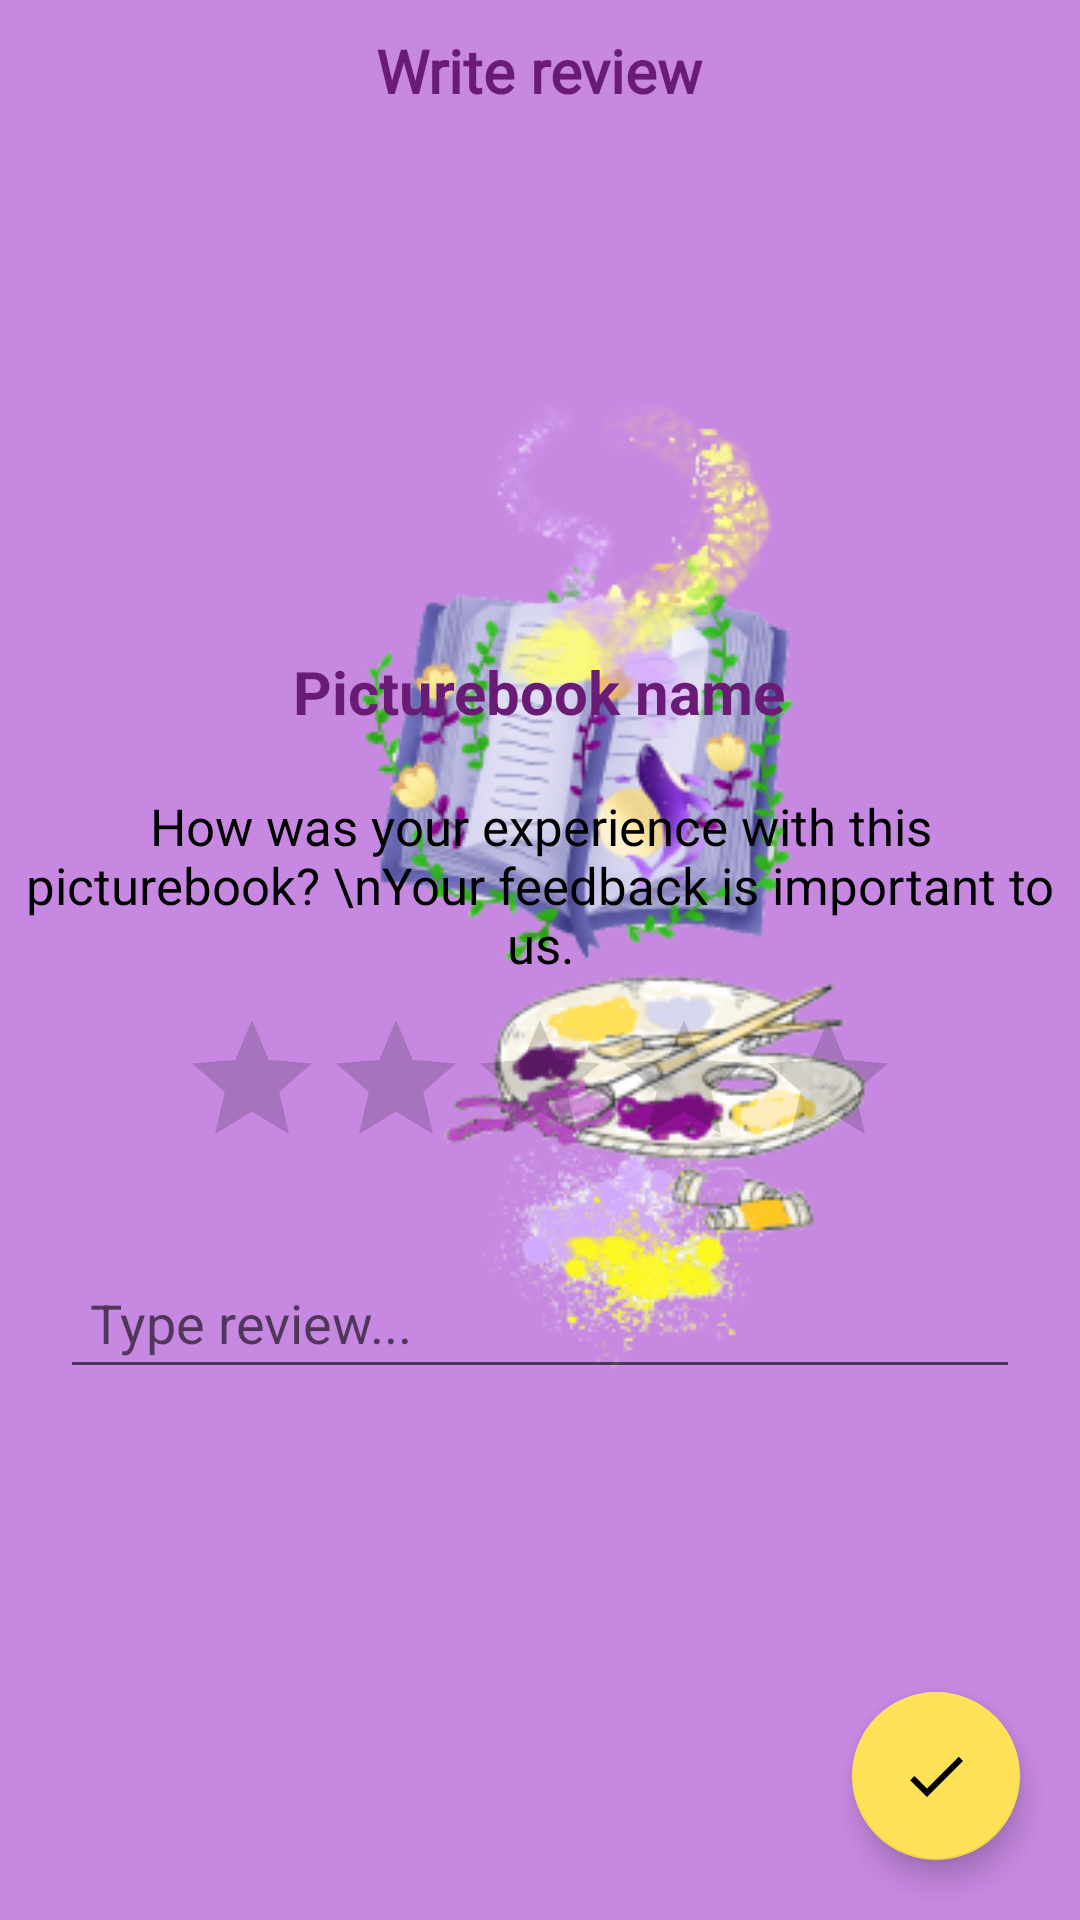

Screen size 1080px x 1920px. Icon name, then its box in pixels as (x1, y1, x2, y2):
done: (852, 1692, 1020, 1860)
